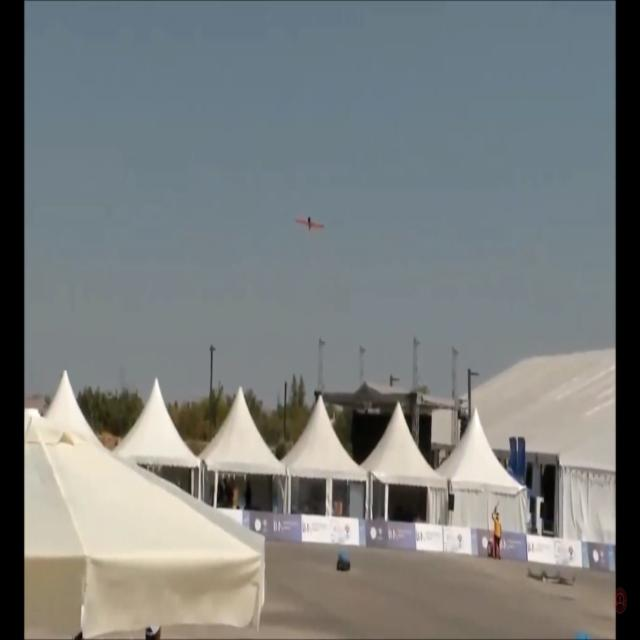iha: (294, 214, 326, 234)
